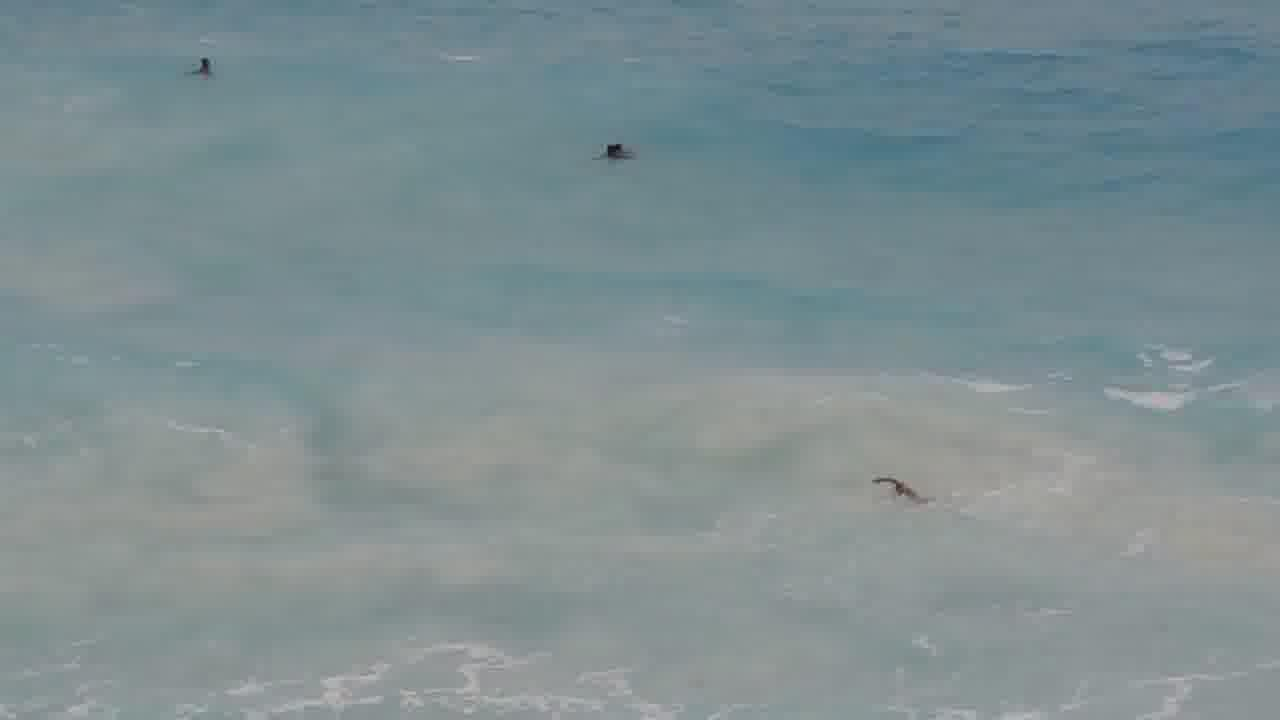human: (190, 49, 226, 85), (602, 130, 636, 167)
